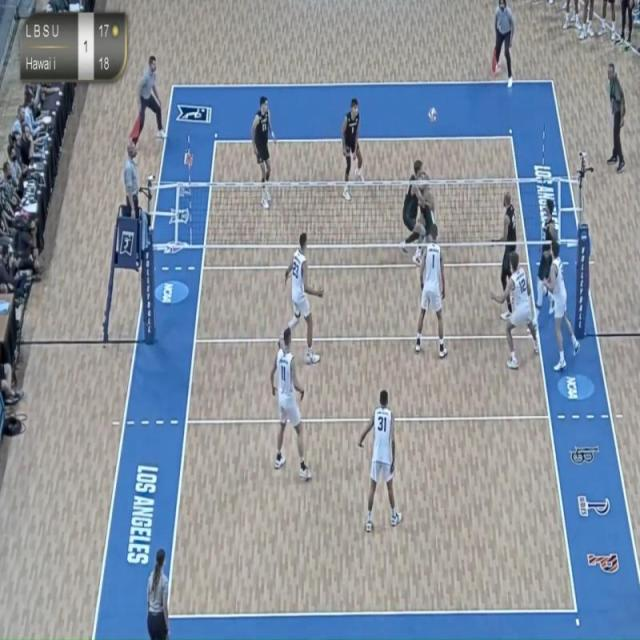volleyball: (426, 102, 440, 127)
